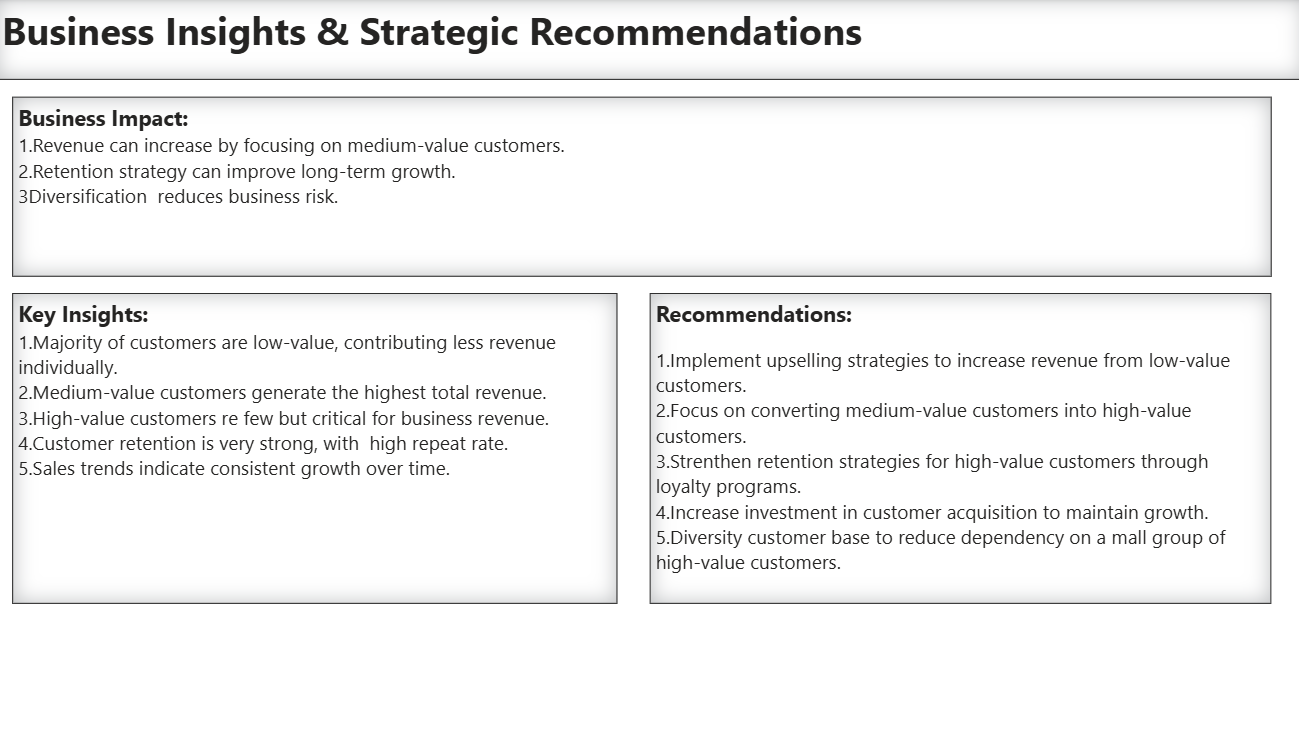

The page's visual inventory and layout, read from the dashboard file:
{"tool":"powerbi","page":{"name":"Business insights & strategic Recommendations","canvas":[1280,720],"ordinal":3},"visuals":[{"type":"textbox","box":[0,0,1280,80],"z":0},{"type":"textbox","box":[16,288,592,304],"z":1000},{"type":"textbox","box":[640,288,608,304],"z":2000},{"type":"textbox","box":[16,96,1232,176],"z":3000}]}

Visuals, with their boxes in screenshot pixels (x1, y1, x2, y2), scaled from the page's 1280x720 canvas onto the 1299x733 screenshot:
textbox: 0,0,1298,81
textbox: 16,293,617,603
textbox: 650,293,1267,603
textbox: 16,98,1267,277
